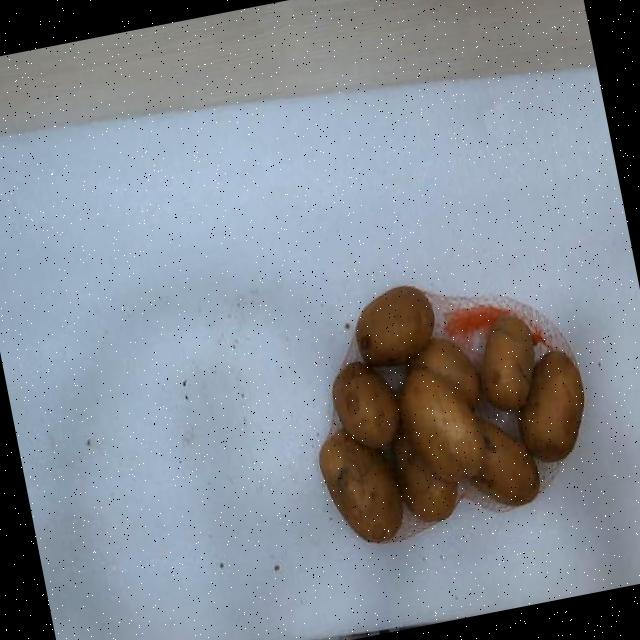potato: (400, 367, 484, 481), (320, 430, 403, 542), (519, 350, 585, 462), (355, 287, 434, 363), (393, 430, 457, 522), (332, 364, 400, 449), (472, 421, 539, 505), (481, 316, 534, 409), (411, 339, 480, 408)
